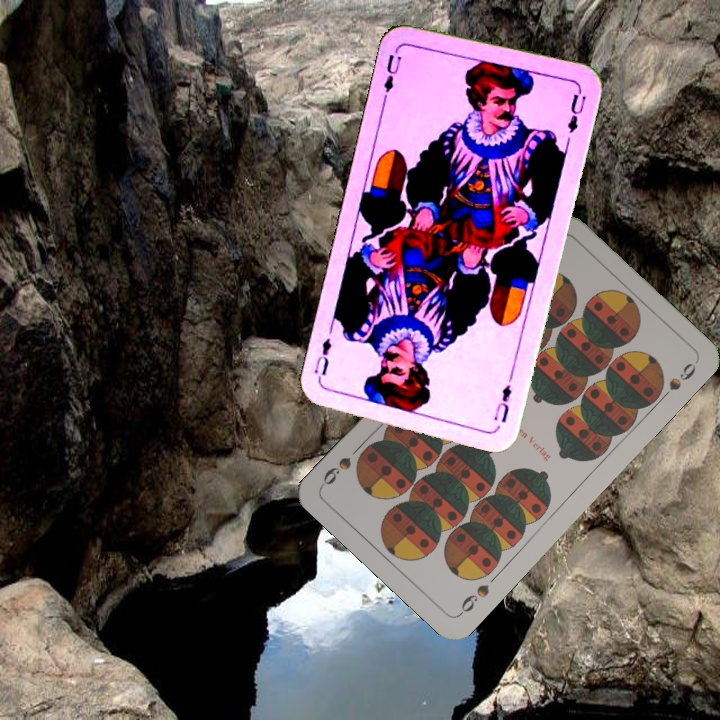EU: (489, 380, 515, 425), (379, 50, 404, 95)
S9: (455, 580, 492, 618)
